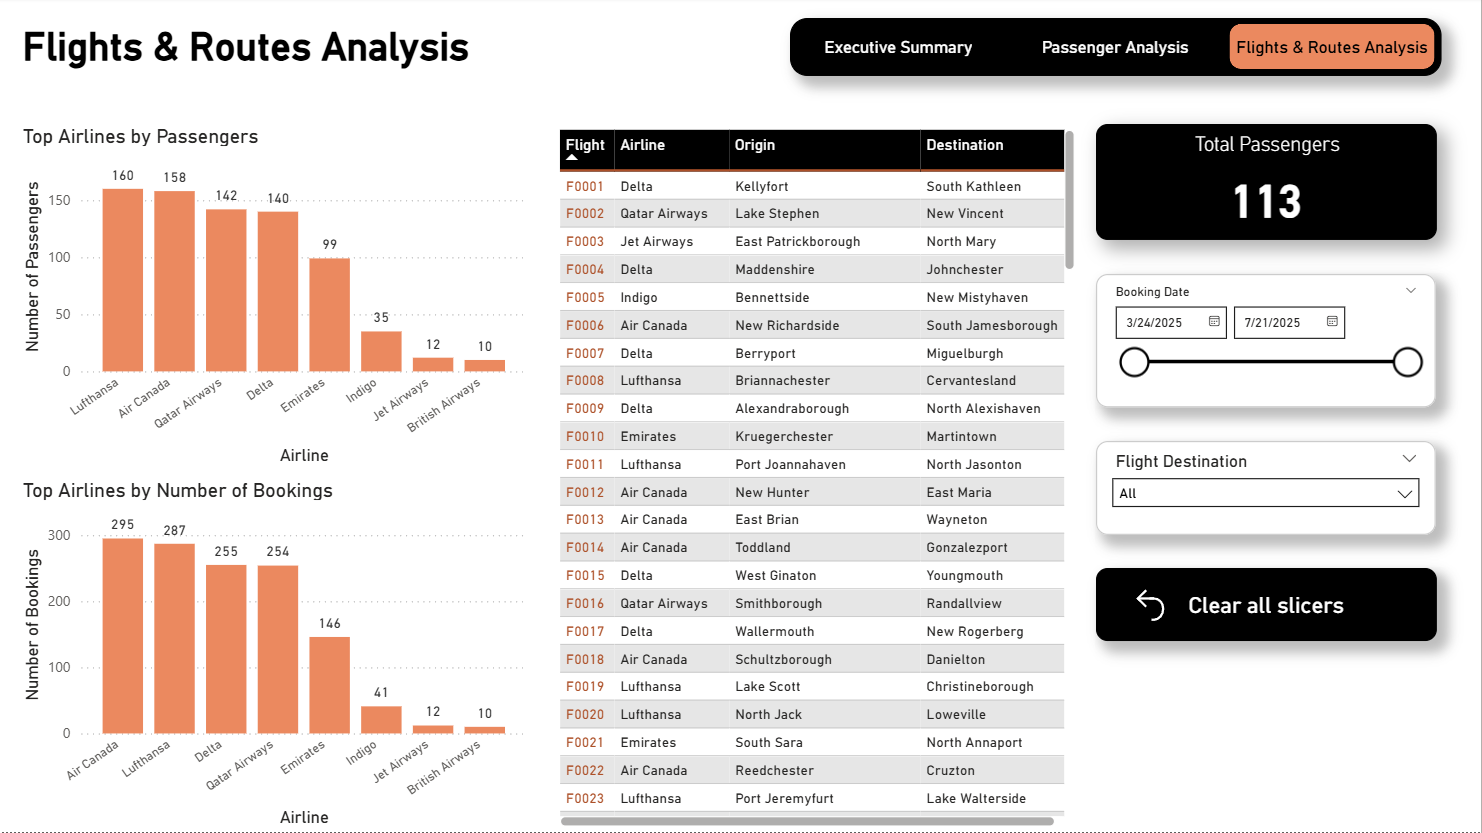

Layout of this report page (visuals, bound fields, positions):
{"tool":"powerbi","page":{"name":"Flights & Routes Analysis","canvas":[1280,720],"ordinal":2},"visuals":[{"type":"textbox","box":[16.9,17.9,433.6,49.7],"z":1000},{"type":"card","title":"Total Passengers","fields":{"Values":["Count(dim_flights.flight_id)"]},"box":[948.3,109.9,293.7,100.2],"z":2000},{"type":"slicer","fields":{"Values":["dim_flights.destination"]},"box":[948.4,383.2,293.4,80.6],"z":3000},{"type":"slicer","title":"Booking Time","fields":{"Values":["fact_bookings.booking_date"]},"box":[948.4,239,293.4,115.4],"z":4000},{"type":"actionButton","title":"Clea","box":[947.9,492.7,293.7,63.2],"z":5000},{"type":"tableEx","fields":{"Values":["dim_flights.flight_id","dim_flights.airline","dim_flights.origin","dim_flights.destination"]},"box":[479.4,109.4,454.5,610.7],"z":6000},{"type":"columnChart","title":"Top Airlines by Passengers ","fields":{"Category":["dim_flights.airline"],"Y":["Count(dim_passengers.passenger_id)"]},"box":[16.9,109.4,444.6,298.4],"z":7000},{"type":"columnChart","title":"Top Airlines by Number of Bookings","fields":{"Category":["dim_flights.airline"],"Y":["Count(fact_bookings.booking_id)"]},"box":[16.9,414.7,444.6,305.3],"z":8000},{"type":"pageNavigator","box":[683.6,18.3,561.5,49.7],"z":8001}]}

Visuals, with their boxes in screenshot pixels (x1, y1, x2, y2), scaled from the page's 1280x720 canvas onto the 1482x833 screenshot:
textbox: <bbox>20, 21, 522, 78</bbox>
"Total Passengers" card: <bbox>1098, 127, 1438, 243</bbox>
slicer - dim_flights.destination: <bbox>1098, 443, 1438, 537</bbox>
"Booking Time" slicer: <bbox>1098, 277, 1438, 410</bbox>
"Clea" actionButton: <bbox>1097, 570, 1438, 643</bbox>
tableEx - dim_flights.flight_id x dim_flights.airline: <bbox>555, 127, 1081, 832</bbox>
"Top Airlines by Passengers " columnChart: <bbox>20, 127, 534, 472</bbox>
"Top Airlines by Number of Bookings" columnChart: <bbox>20, 480, 534, 832</bbox>
pageNavigator: <bbox>791, 21, 1442, 79</bbox>
